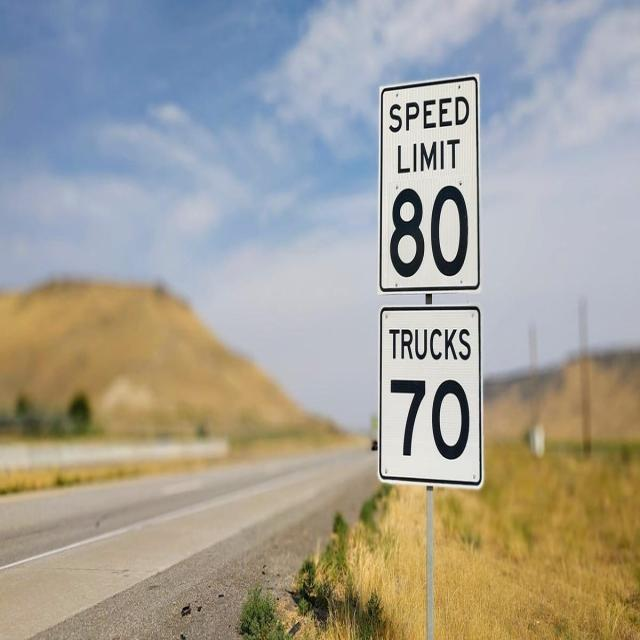speedLimit80: (372, 75, 482, 496)
